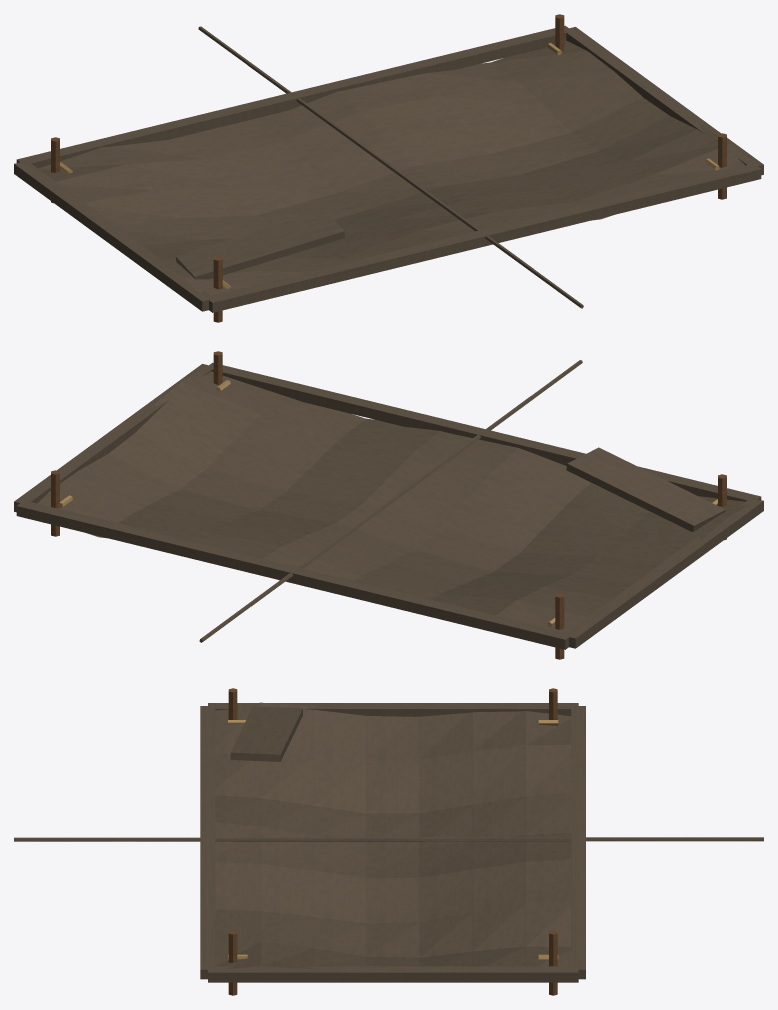
File: en-016_camp_mat_groundsheet__clean.obj
3 renders of one model, top to bottom at view 1: azimuth 30°, elevation 25°; view 2: azimuth 150°, elevation 25°; view 3: azimuth 270°, elevation 25°, orthographic.
Visible parts, largest first — view 1: en-016_camp_mat_groundsheet__clean; view 2: en-016_camp_mat_groundsheet__clean; view 3: en-016_camp_mat_groundsheet__clean.
Boxes of the visible parts, <box> form: en-016_camp_mat_groundsheet__clean: <box>14,14,763,322</box>; en-016_camp_mat_groundsheet__clean: <box>14,351,763,659</box>; en-016_camp_mat_groundsheet__clean: <box>14,688,763,995</box>.
Size of the model in its own units: 1.51 by 0.16 by 1.78.
Materials: 3 (3 with a texture image).
